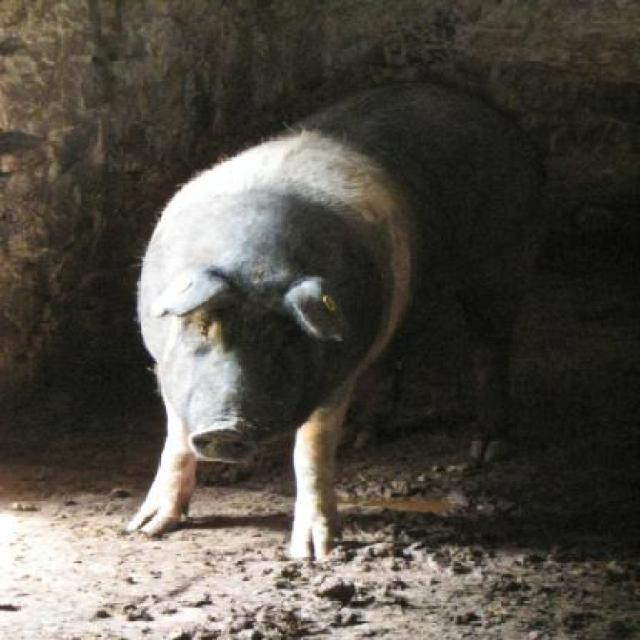pig: (122, 76, 553, 560)
